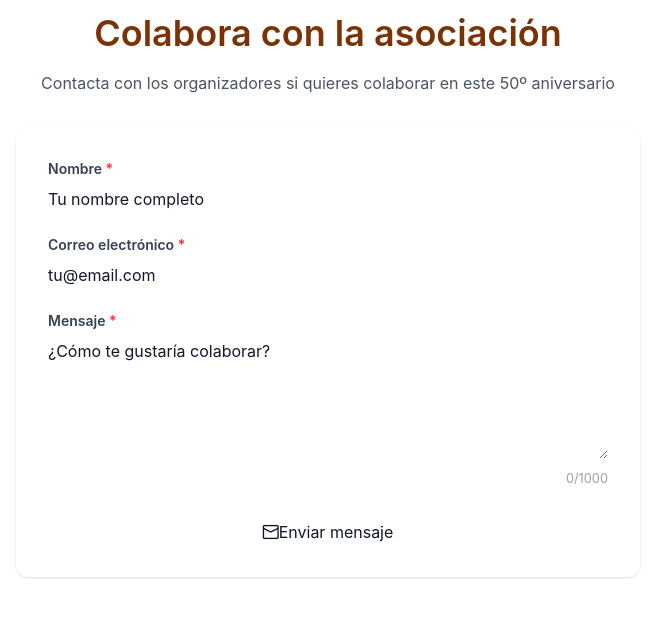
Test: AnniversaryContactForm › should show validation error when email is invalid
The image size is (657, 642).
Type "Test User" into the field with id "contact-name".
click(328, 199); type("Test User")  # box left=48, top=187, right=608, bottom=211
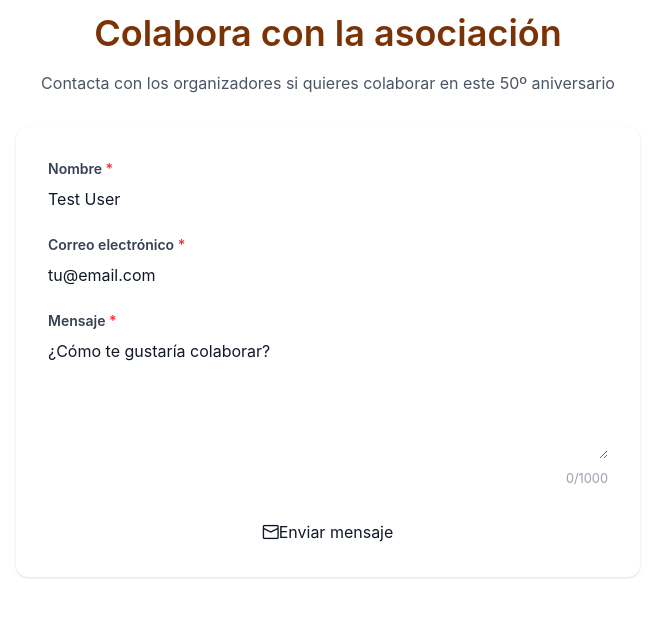
Type "not-an-email" into the field with id "contact-email".
click(328, 275); type("not-an-email")  # box left=48, top=263, right=608, bottom=287
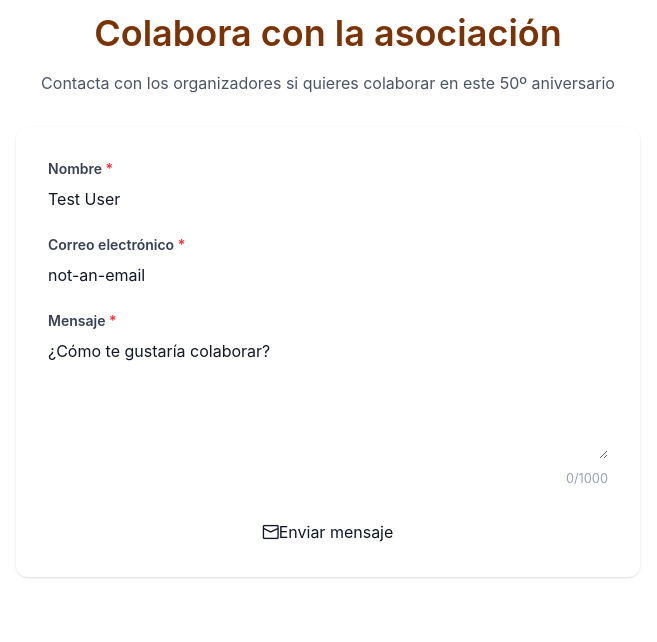
Submit the form
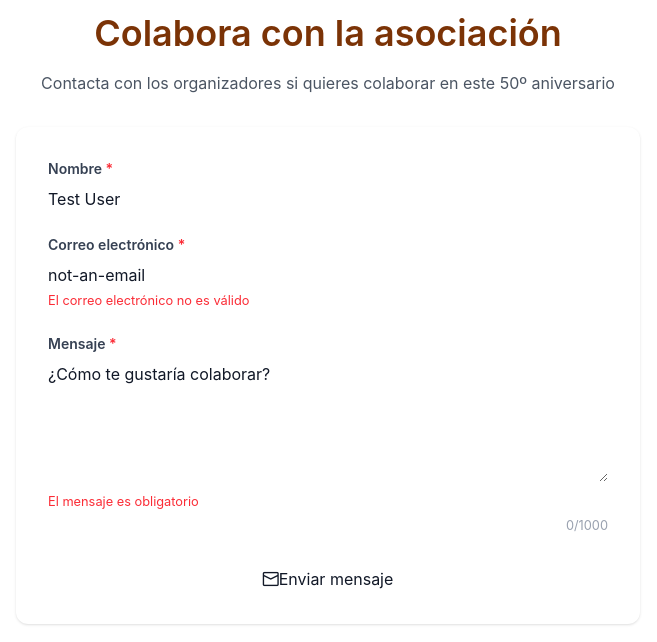
Expected: the text "El correo electrónico no es válido" is shown, left=48, top=293, right=250, bottom=308
